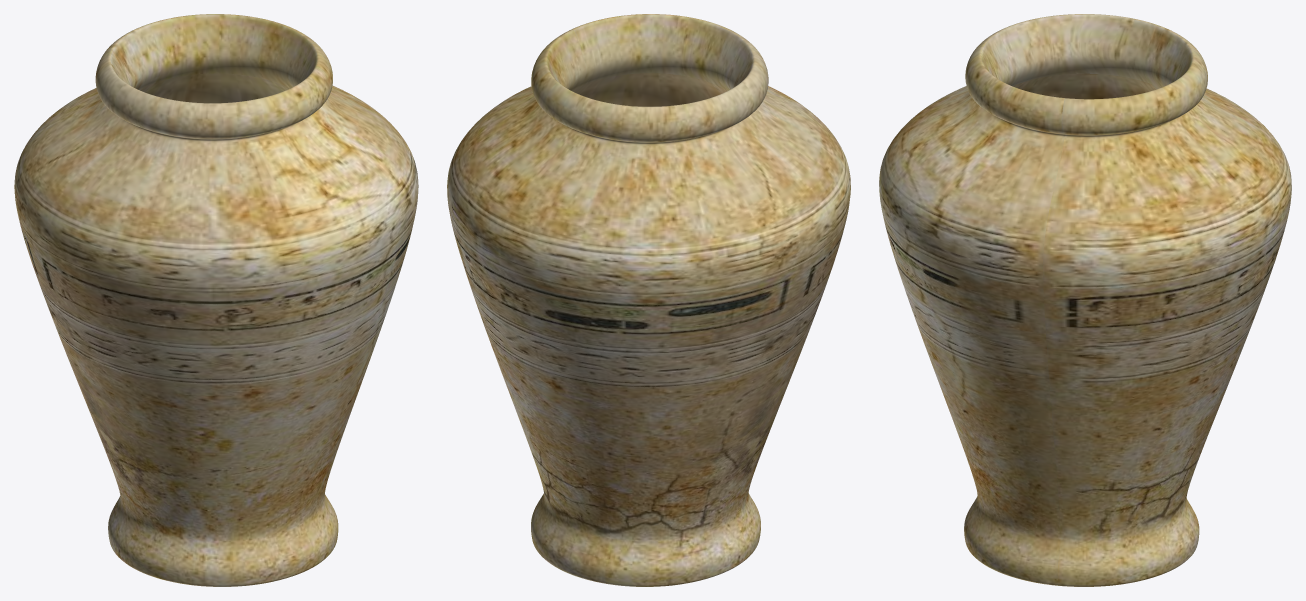
File: jarrr.glb
The picture shows the model from 3 angles, left to right: view 1: azimuth 30°, elevation 25°; view 2: azimuth 150°, elevation 25°; view 3: azimuth 270°, elevation 25°; orthographic projection.
Visible parts, largest first — view 1: Jar; view 2: Jar; view 3: Jar.
Part boxes in pixels (x1,y1,x2,y2): Jar: (14,14,418,586); Jar: (447,14,850,586); Jar: (879,14,1291,586).
Bounding box in the file's own units: 27.42 × 36.67 × 28.15.
Materials: 1 (1 with a texture image).
